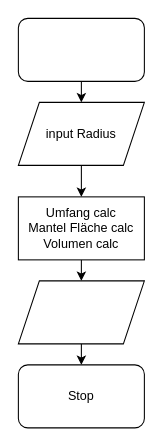
Image size: 163x446. Some labels were removed from this diagram. The centre of each missing label's shape, as x and y in pixels:
Output umfang, mantel fläche, Volumen: the point at 80,312
Start: the point at 80,49
